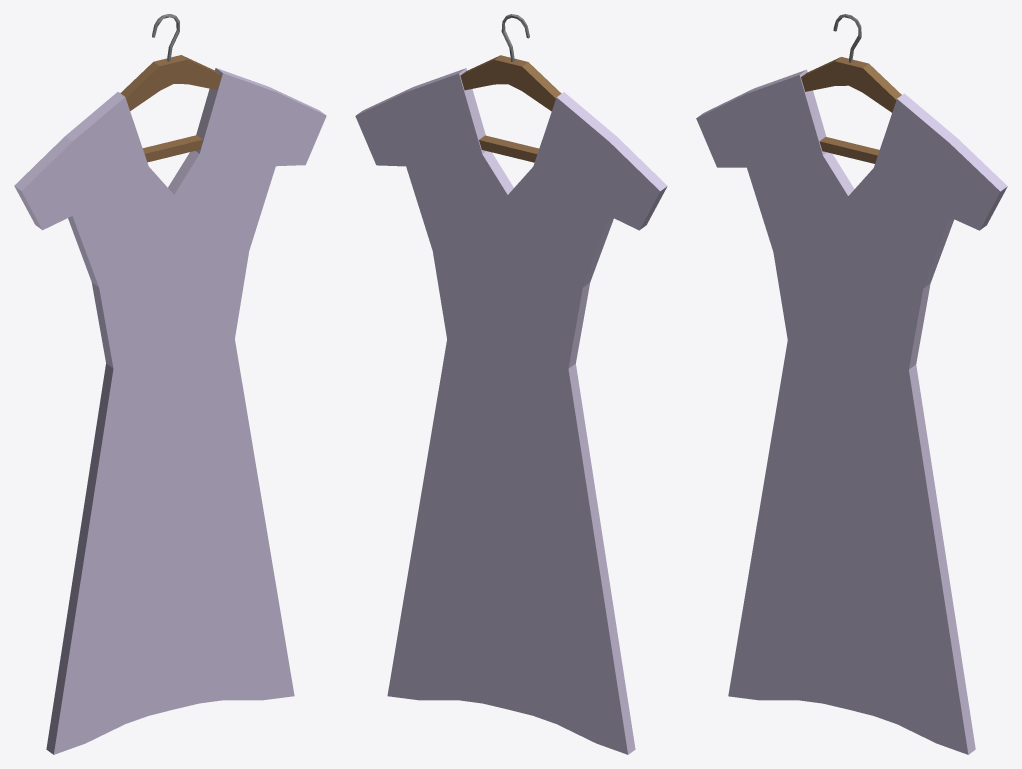
Rendered from Clothes7_C3.fbx.
3 renders of one model, left to right at view 1: azimuth 30°, elevation 25°; view 2: azimuth 150°, elevation 25°; view 3: azimuth 330°, elevation 25°, orthographic.
Parts seen in each view (by area): view 1: Clothes7_C3; view 2: Clothes7_C3; view 3: Clothes7_C3.
Part boxes in pixels (x1,y1,x2,y2): Clothes7_C3: [14, 14, 326, 754]; Clothes7_C3: [355, 14, 667, 754]; Clothes7_C3: [696, 14, 1007, 754].
Size of the model in its own units: 49.29 by 109 by 2.07.
